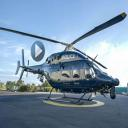helicopter: (10, 6, 126, 107)
